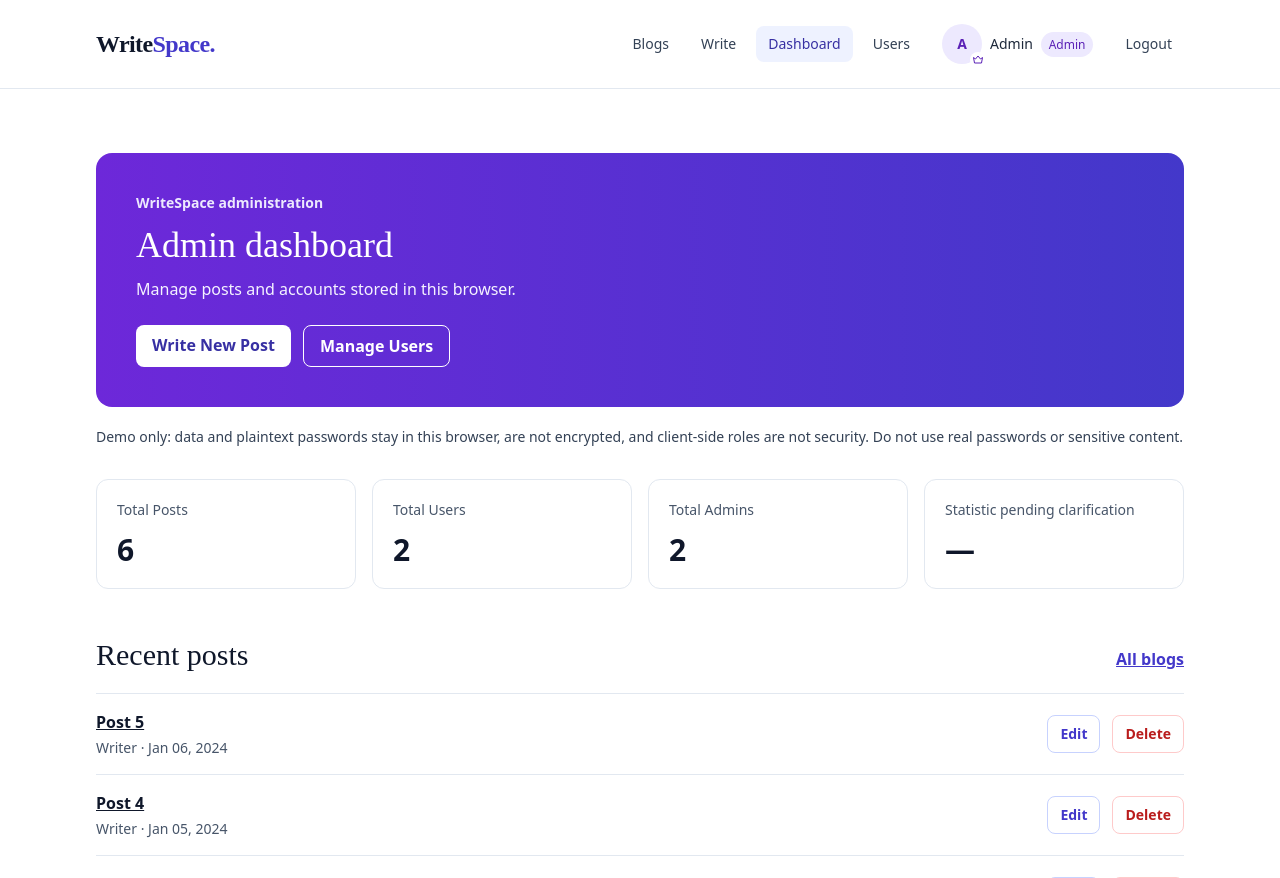
Test: admin dashboard › shows four slots, the newest five, links, and no action on render
Expected: the text "6" is shown, x1=117 y1=529 x2=134 y2=570
Expected: the text "2" below "Total Admins" is shown, x1=669 y1=529 x2=686 y2=570
Click the button with aria-label "Delete Post 5". click: (1148, 734)
box: x1=1112 y1=715 x2=1184 y2=753
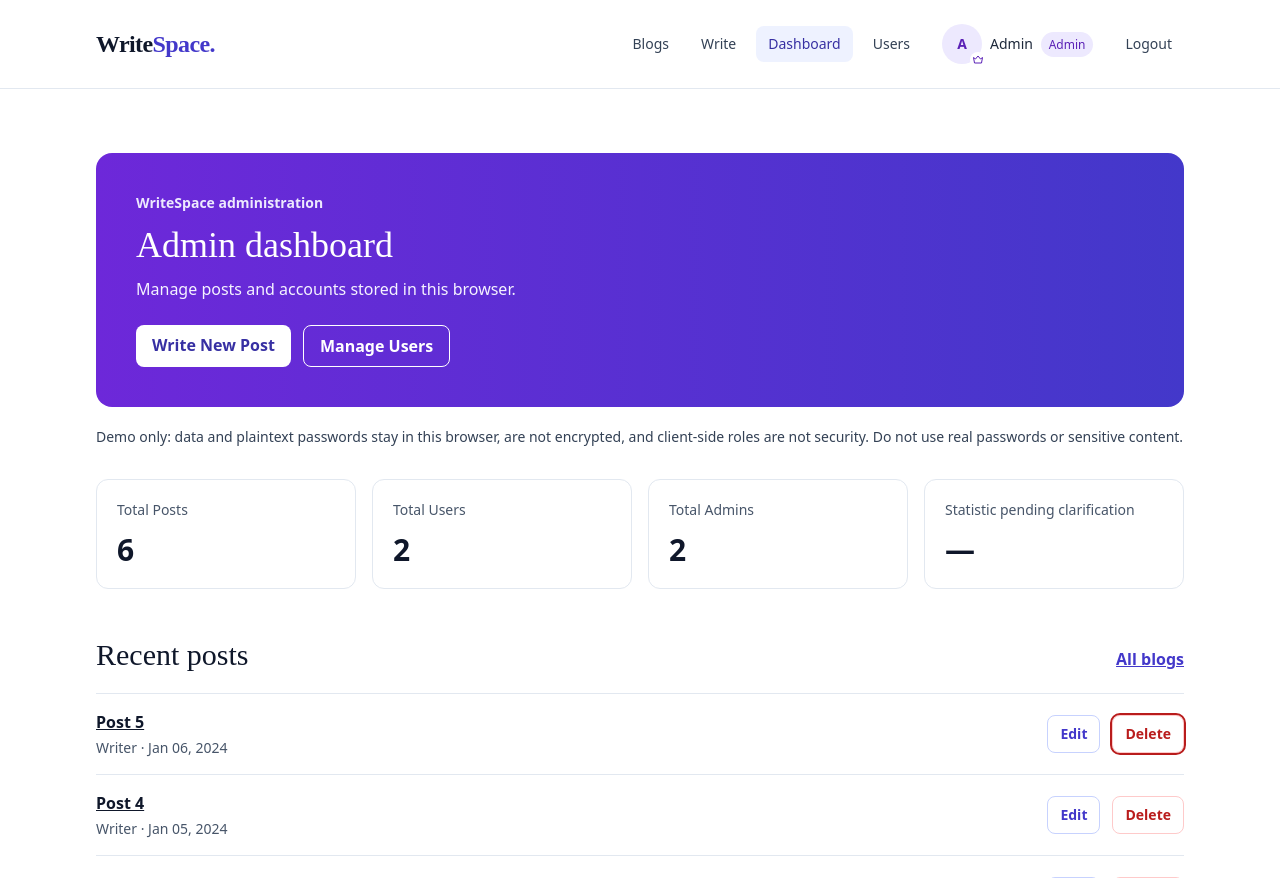
Click the button with aria-label "Delete Post 5". click: (1148, 734)
box: x1=1112 y1=715 x2=1184 y2=753
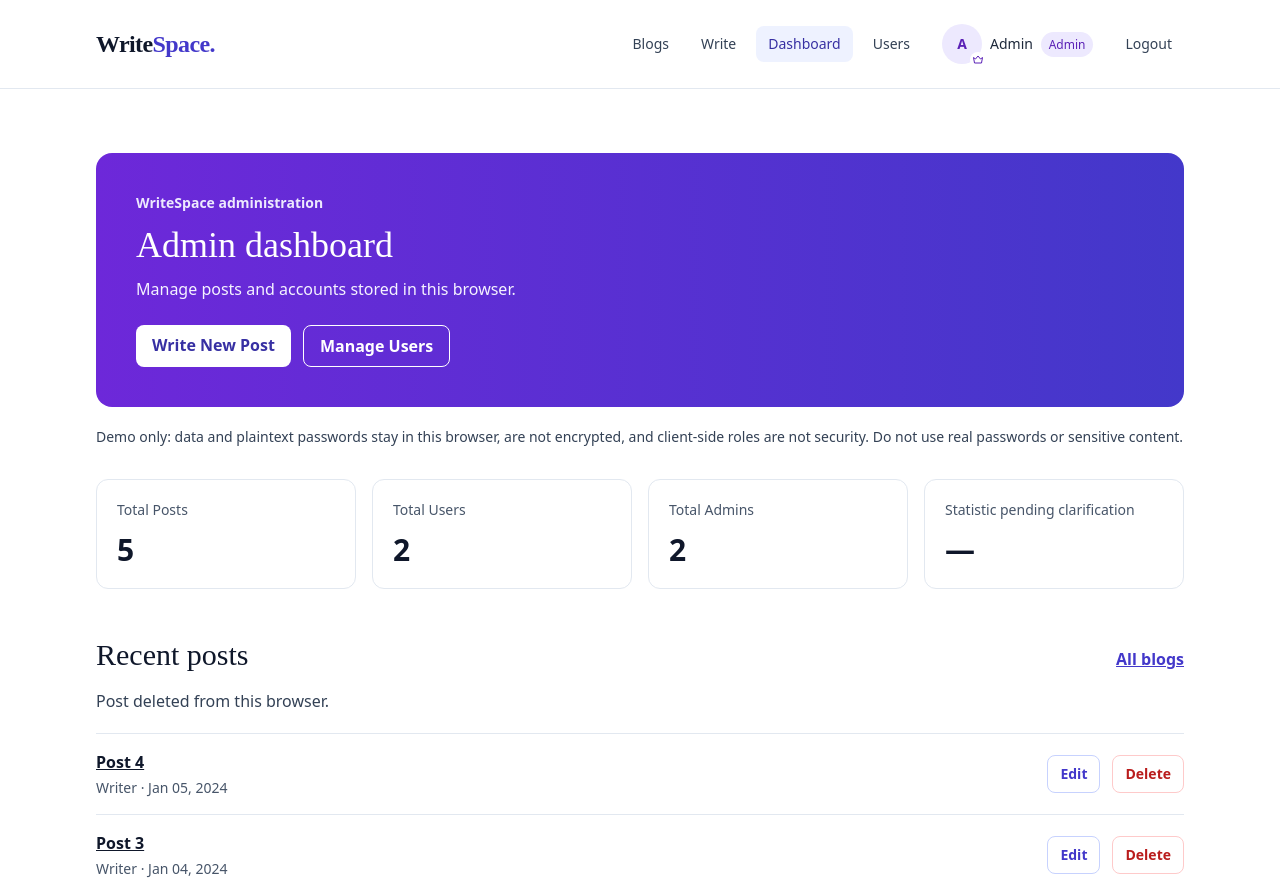
Expected: the text "Post deleted from this browser." is shown, x1=96 y1=690 x2=329 y2=712
